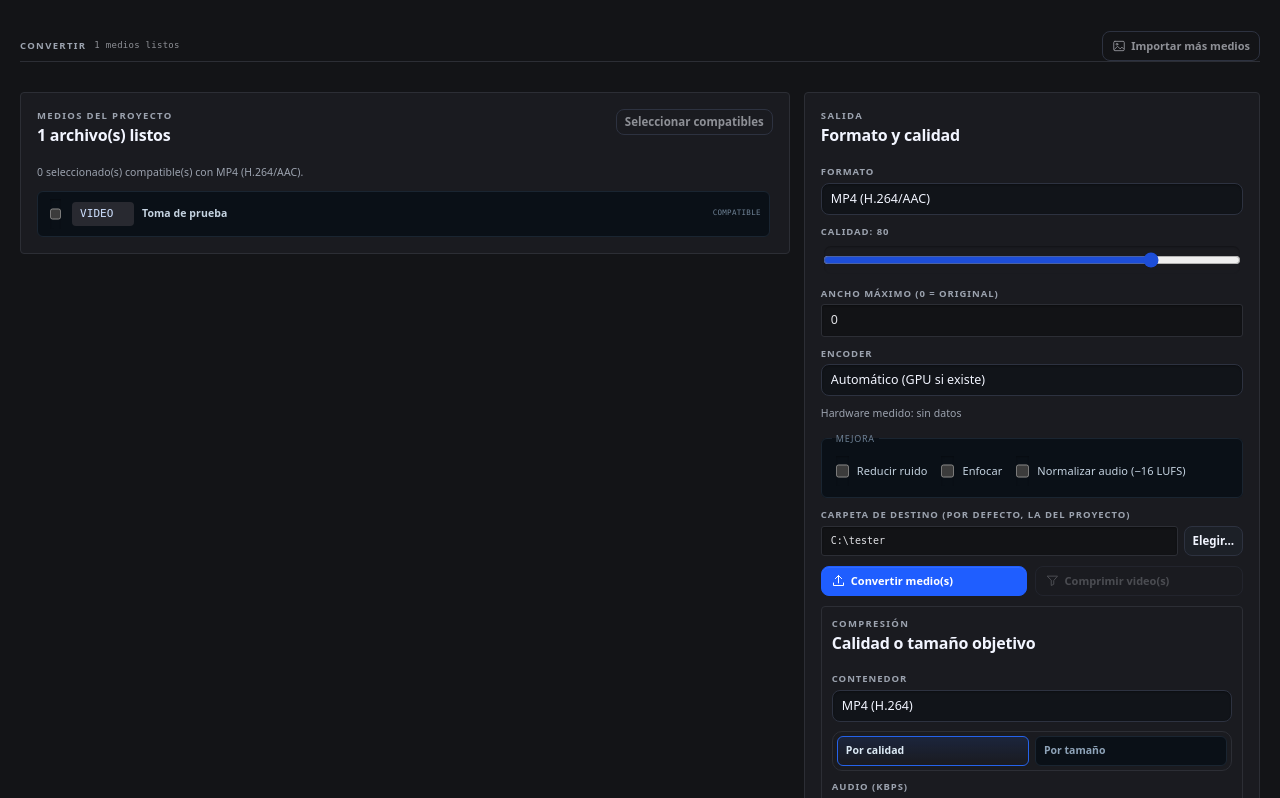
Scenario: ConvertView · lote, compresión y formatos › expone encoder y mejoras, y las manda al lote
The image size is (1280, 798).
Step 1. Click the button "Seleccionar compatibles" → (694,122), box [616,109,773,135]
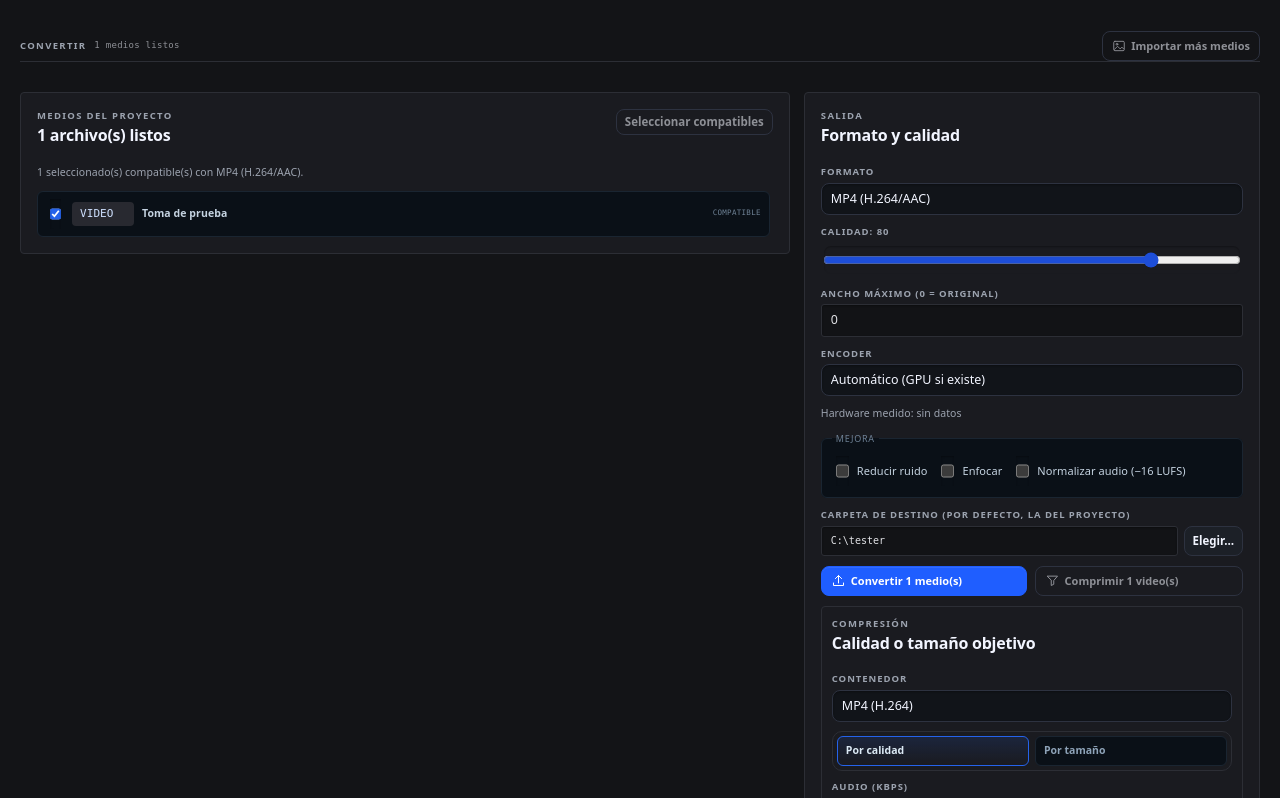
Step 2. Select "Software (libx264/libx265)" in the dropdown labelled "Encoder" → (1032,380), box [821,364,1243,396]
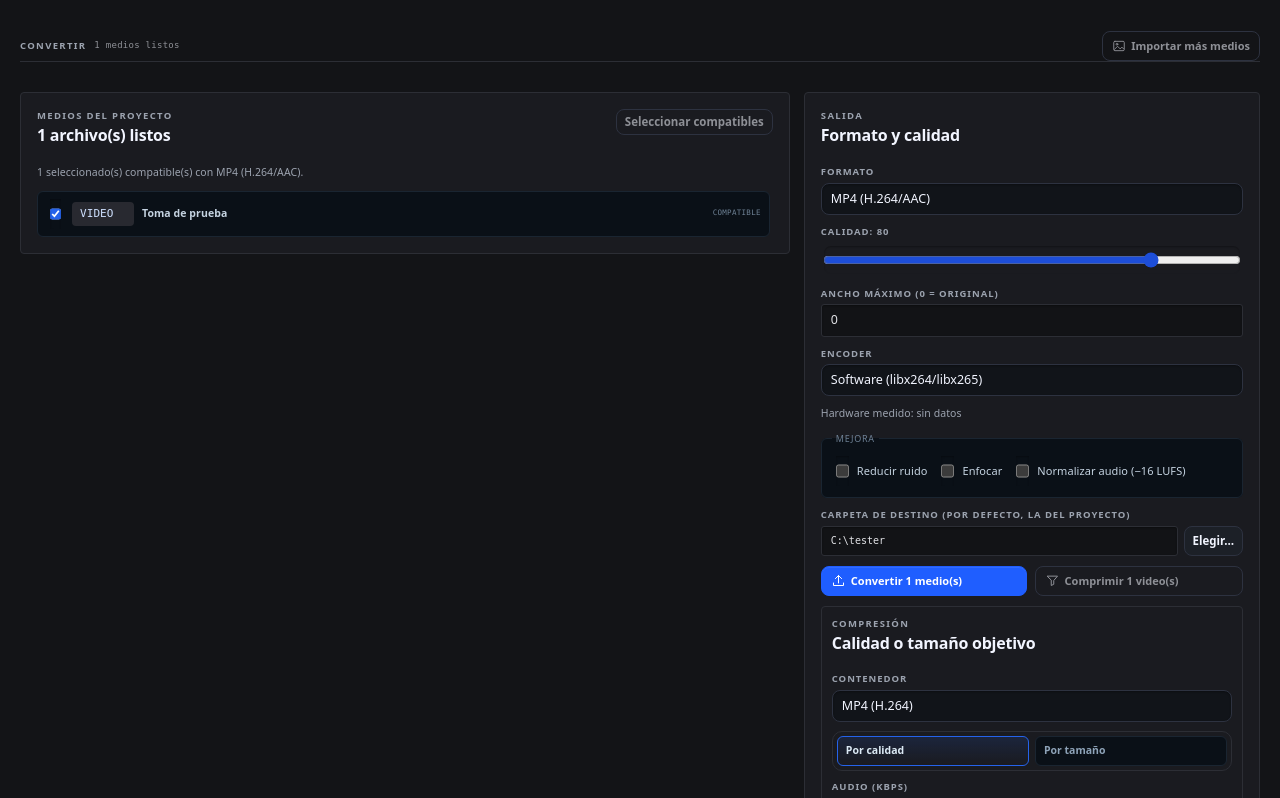
Step 3. Click the text "Reducir ruido" → (892,471), box [857,463,927,479]
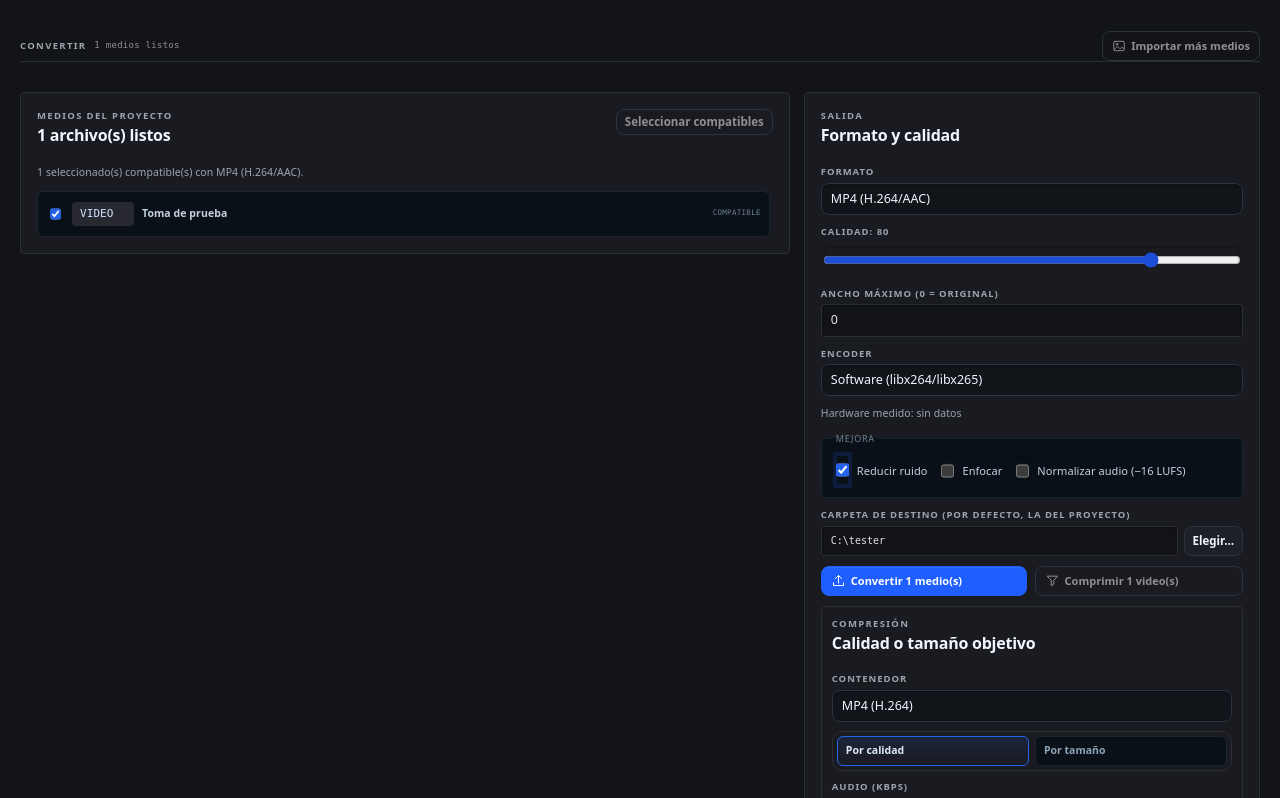
Step 4. Click the text "Normalizar audio (−16 LUFS)" → (1111,471), box [1037,463,1186,479]
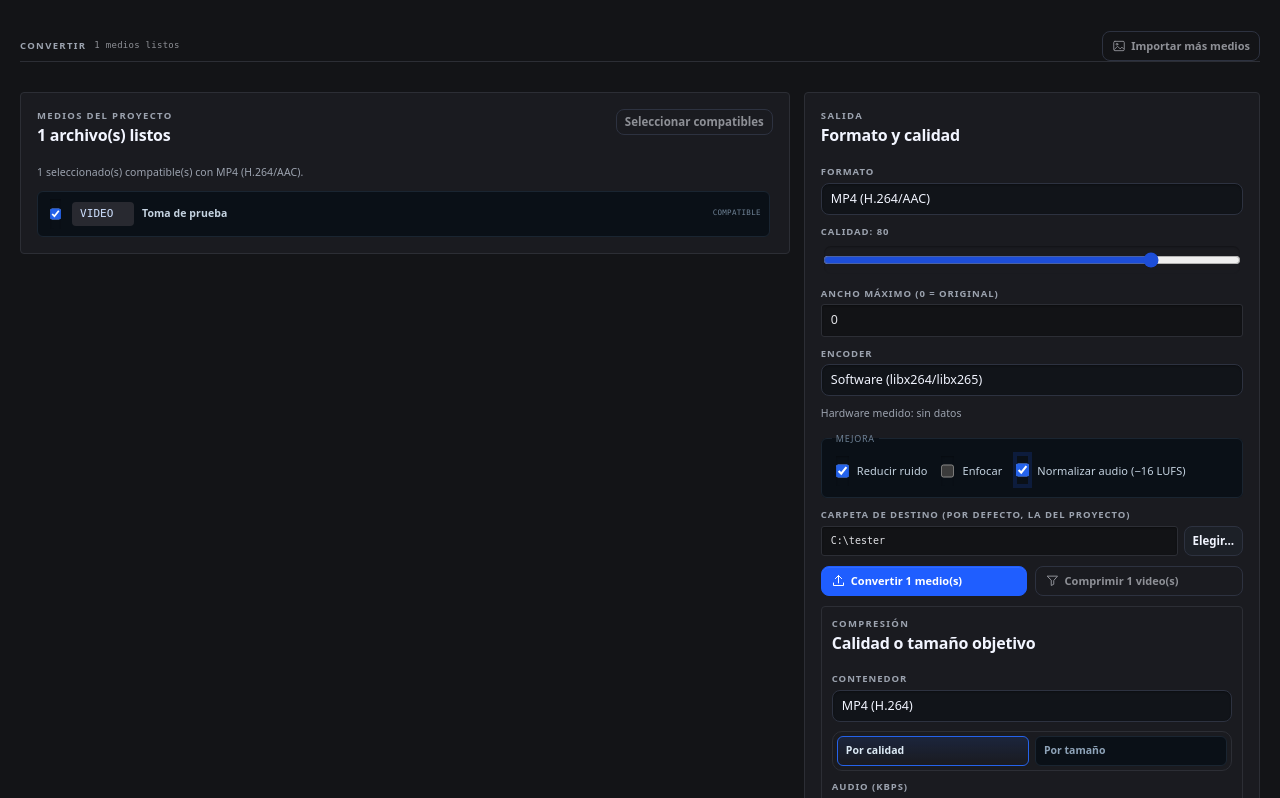
Step 5. Click the button "Convertir 1 medio(s)" → (924,581), box [821,566,1027,596]
(page scrolled)
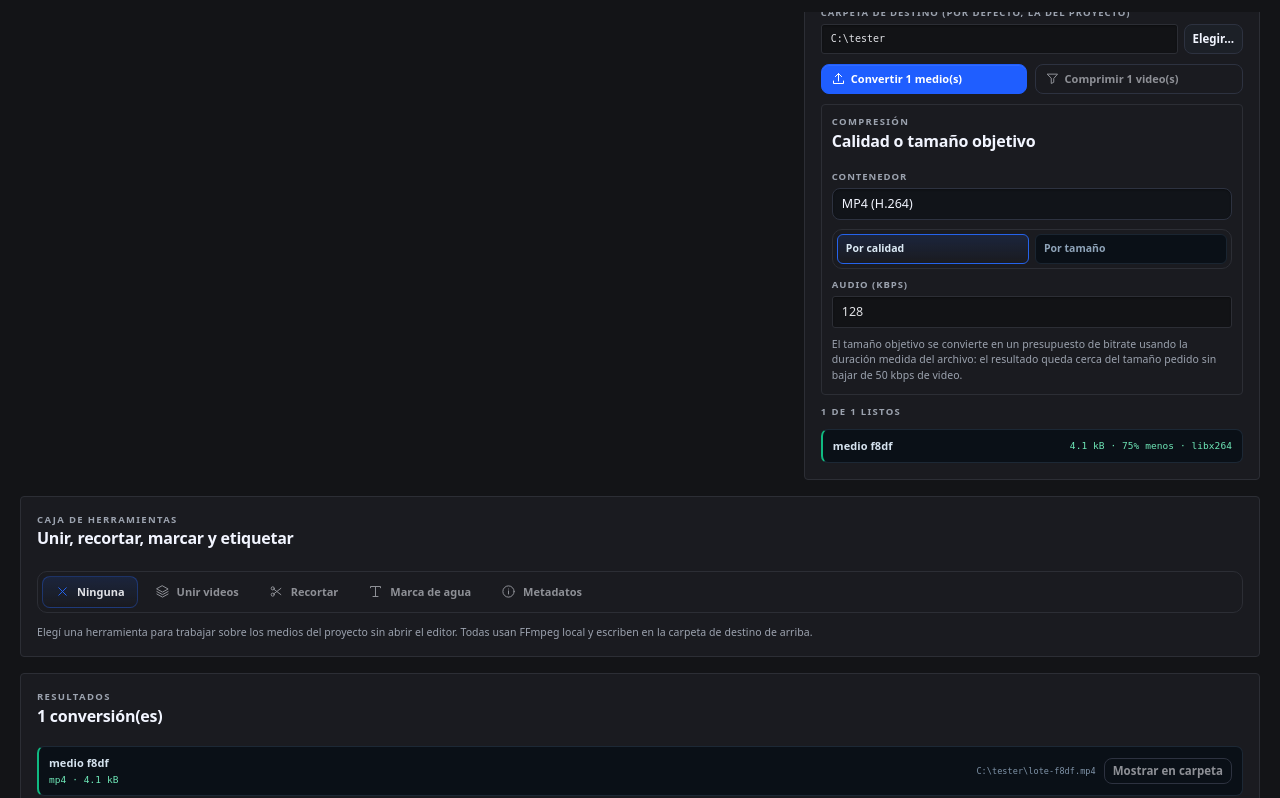
Now the text "1 de 1 listos" is shown, box [821,405,901,418]
